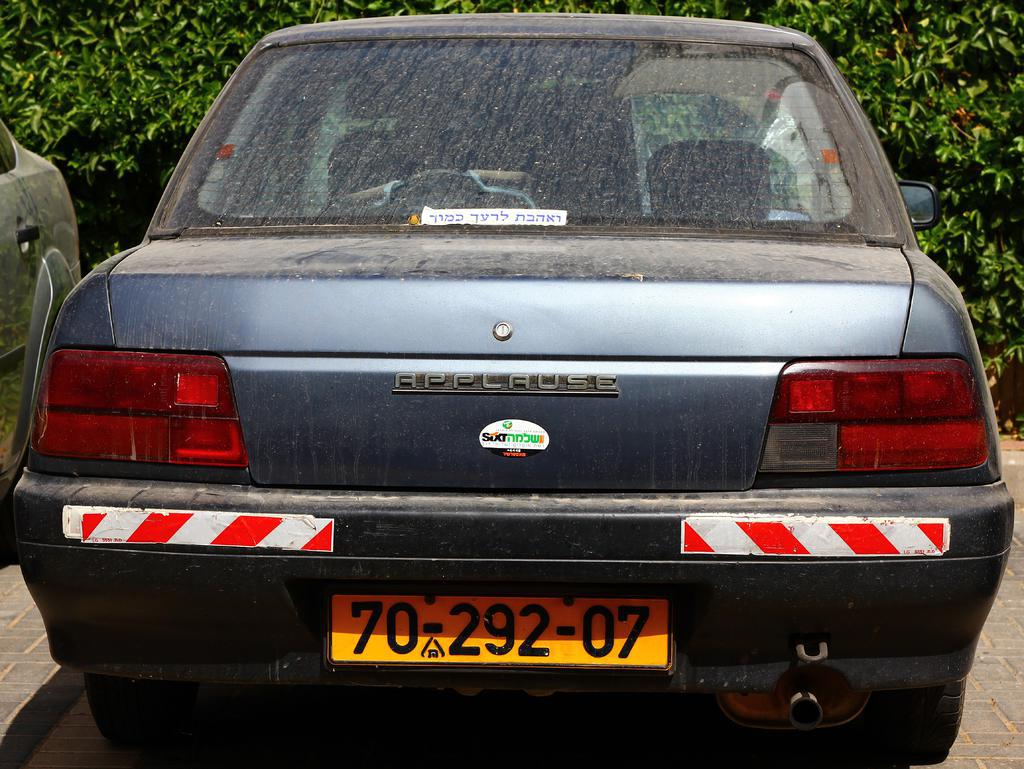License_Plate: (326, 597, 672, 672)
